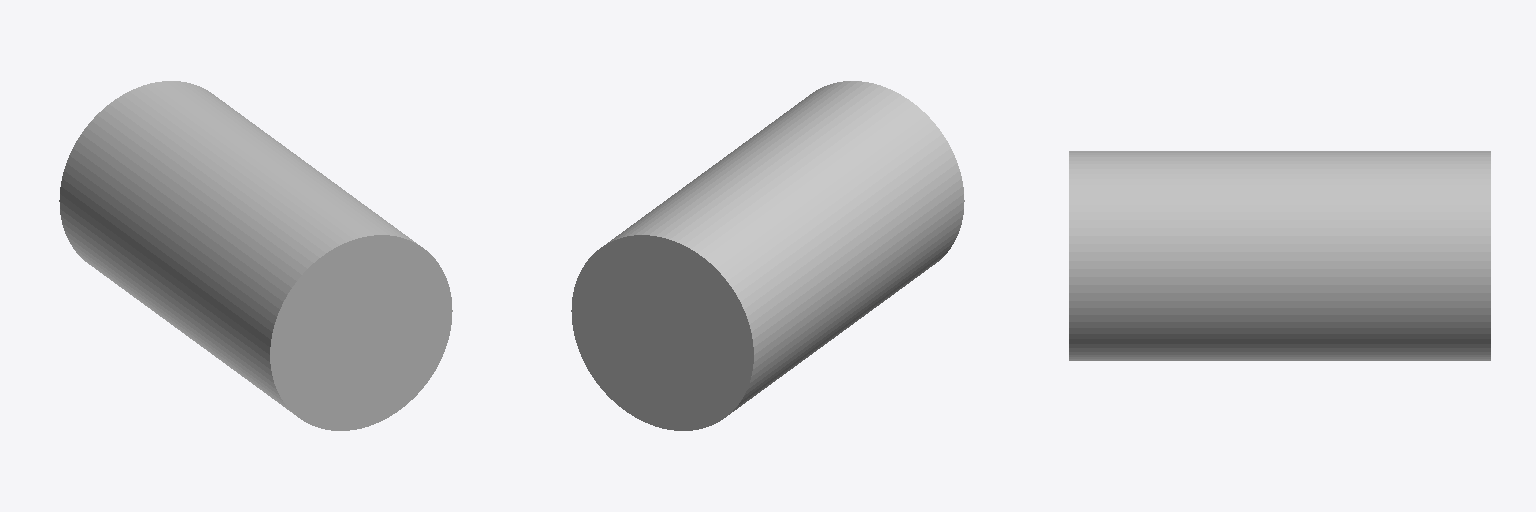
File: red_round_peg_1_5in.obj
The picture shows the model from 3 angles: view 1: azimuth 30°, elevation 25°; view 2: azimuth 150°, elevation 25°; view 3: azimuth 270°, elevation 25°; orthographic projection.
Visible parts, largest first — view 1: mesh0; view 2: mesh0; view 3: mesh0.
Part boxes in pixels (bbox=[...]): mesh0: bbox=[59, 81, 452, 430]; mesh0: bbox=[571, 81, 964, 430]; mesh0: bbox=[1069, 151, 1490, 360].
Size of the model in its own units: 0.0381 by 0.0381 by 0.0762.